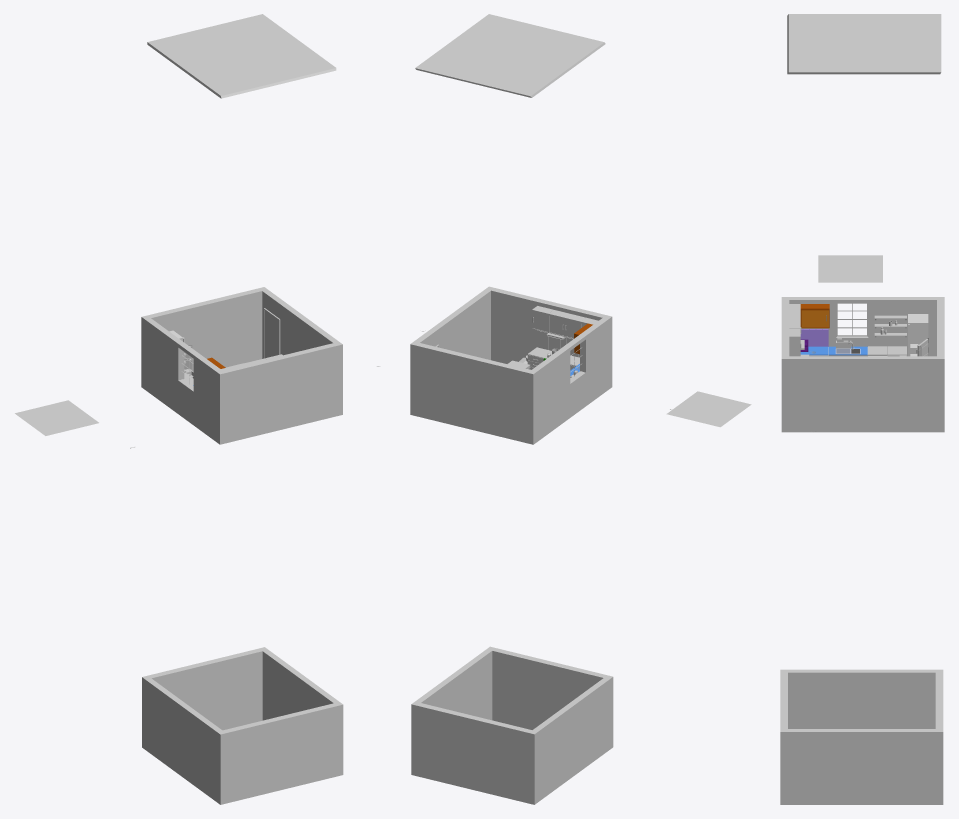
File: kuchnia3.glb
3 renders of one model, left to right at view 1: azimuth 30°, elevation 25°; view 2: azimuth 150°, elevation 25°; view 3: azimuth 270°, elevation 25°, orthographic. The views are drawn at different scales.
Parts seen in each view (by area): view 1: Plane.019, Plane.009, Plane.017, Plane.030, Cube.017; view 2: Plane.019, Plane.009, Plane.017, Plane.030; view 3: Plane.019, Plane.009, Plane.017, Plane.030, Cube.032, Cube.039, Plane.027, Plane.018, Cube.033.
Part boxes in pixels (left/top/right/bottom): Plane.019: left=142, top=647, right=343, bottom=804; Plane.009: left=141, top=287, right=342, bottom=444; Plane.017: left=147, top=14, right=336, bottom=98; Plane.030: left=15, top=400, right=98, bottom=435; Cube.017: left=263, top=308, right=280, bottom=358; Plane.019: left=411, top=646, right=613, bottom=804; Plane.009: left=410, top=286, right=612, bottom=444; Plane.017: left=415, top=14, right=605, bottom=97; Plane.030: left=666, top=391, right=751, bottom=427; Plane.019: left=780, top=669, right=943, bottom=804; Plane.009: left=781, top=297, right=944, bottom=432; Plane.017: left=787, top=14, right=941, bottom=74; Plane.030: left=818, top=255, right=882, bottom=282; Cube.032: left=800, top=304, right=829, bottom=328; Cube.039: left=908, top=314, right=928, bottom=356; Plane.027: left=800, top=329, right=828, bottom=346; Plane.018: left=836, top=303, right=868, bottom=336; Cube.033: left=789, top=328, right=800, bottom=356.
Size of the model in its own units: 12.33 by 24.94 by 5.09.
